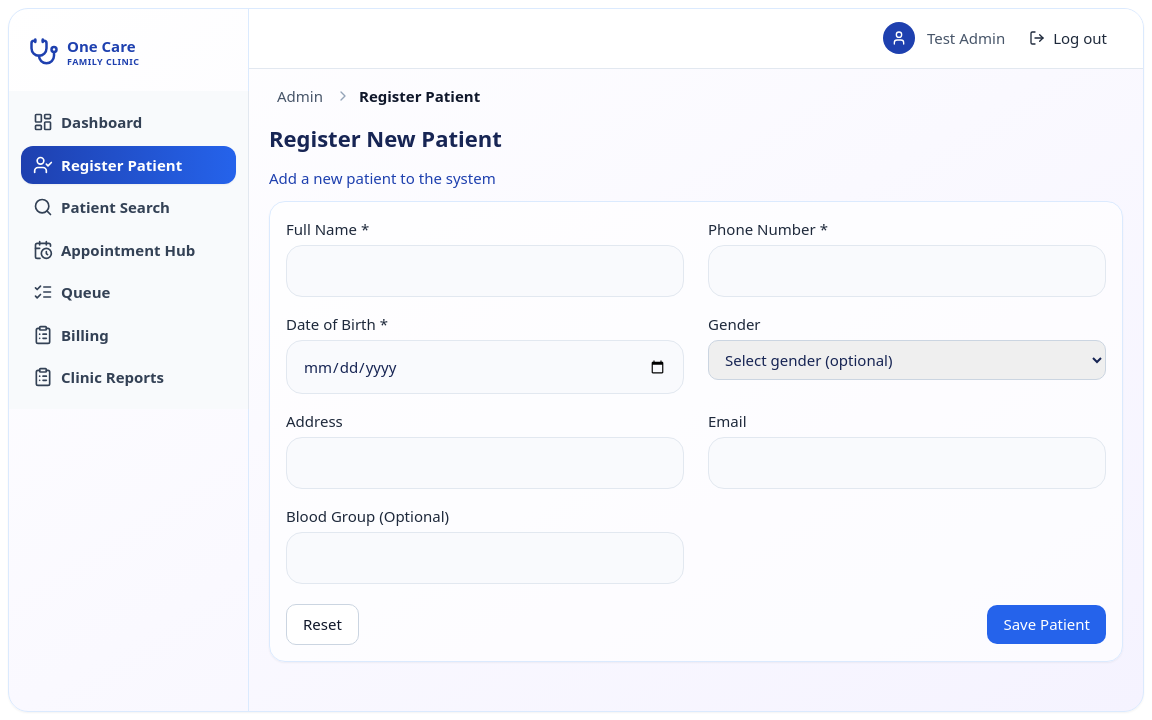
ADM-02 registration through real routing and authenticated HTTP client › treats suspected duplicates as saved and prevents repeat submission
The image size is (1152, 720).
Type "Example Patient" into the field labelled "Full Name*".
click(485, 271); type("Example Patient")  # box [286,245,684,297]
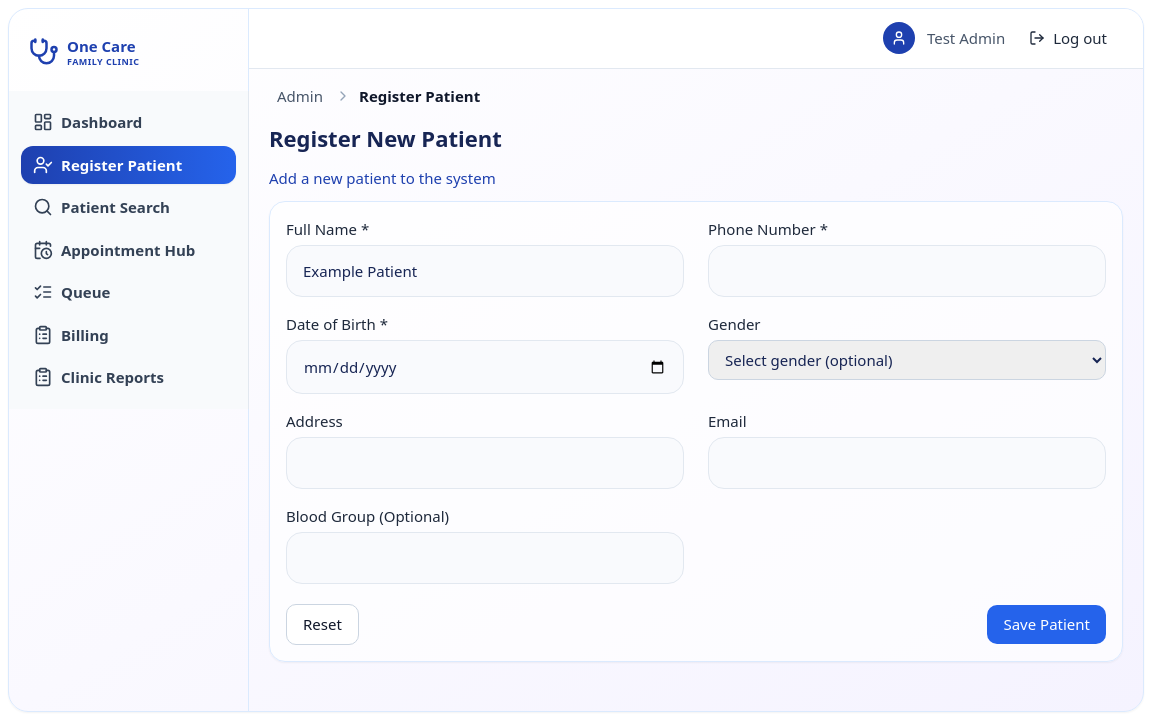
Type "example-phone" into the field labelled "Phone Number*".
click(907, 271); type("example-phone")  # box [708,245,1106,297]
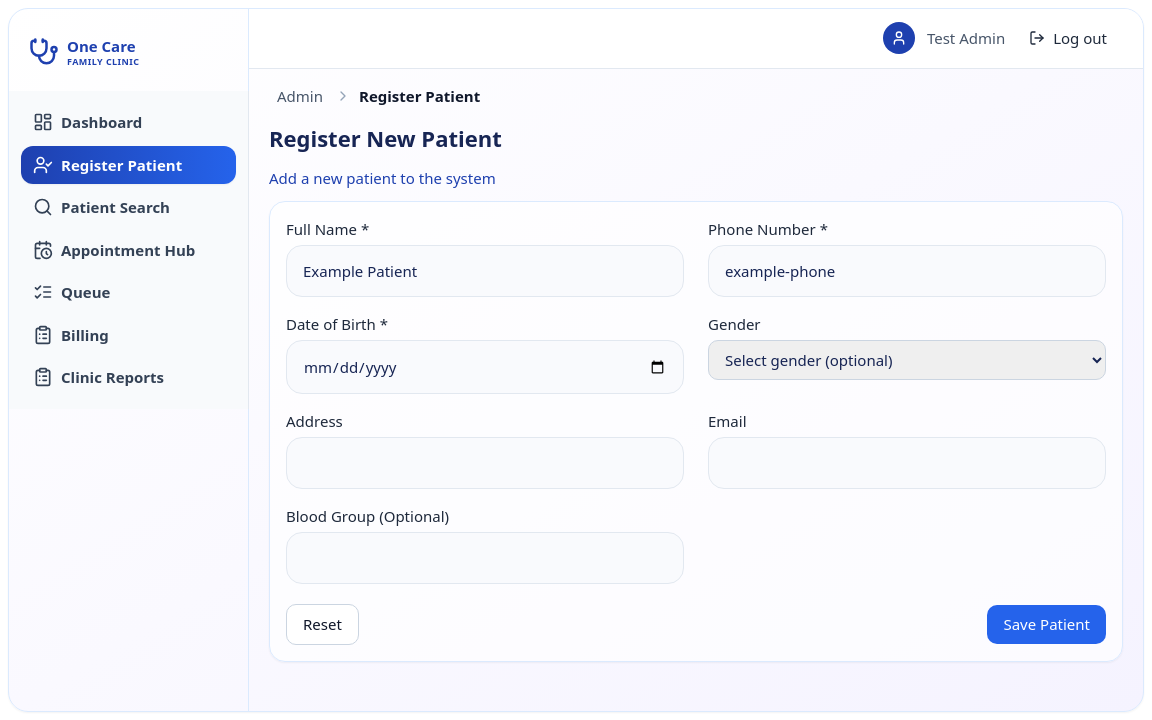
Type "2090-01-15" into the date field labelled "Date of Birth*".
click(485, 367); type("2090-01-15")  # box [286,340,684,394]
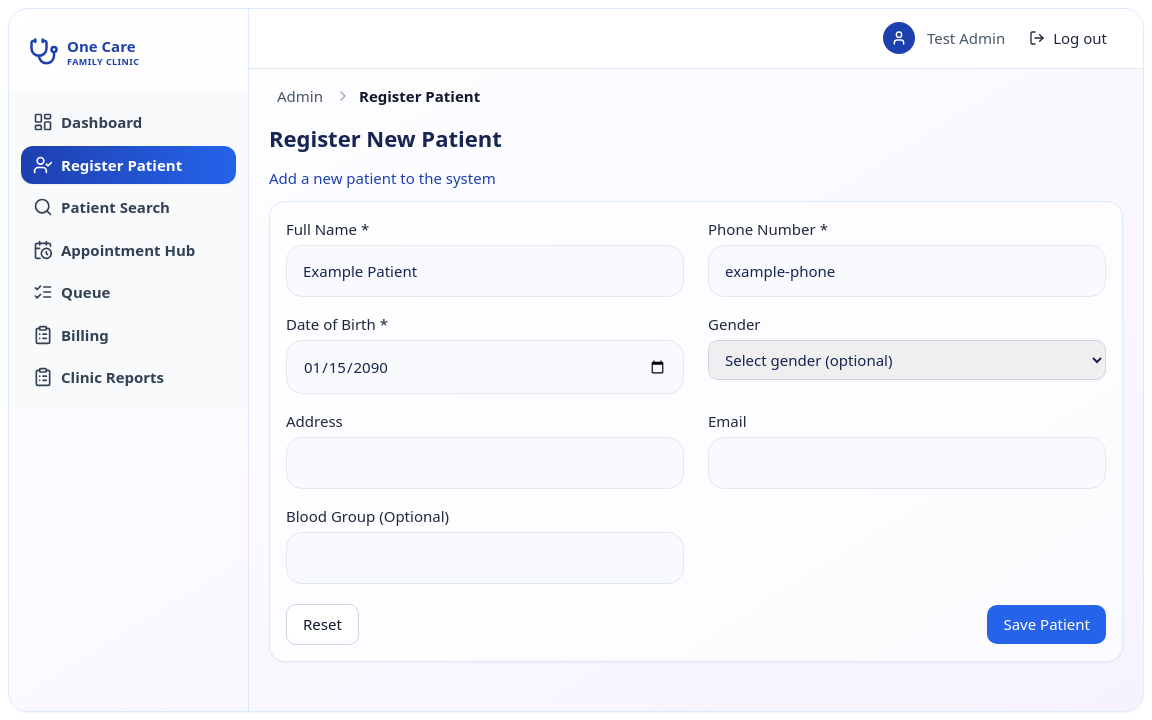
Click the button "Save Patient".
click(1047, 625)  # box [987,605,1106,644]
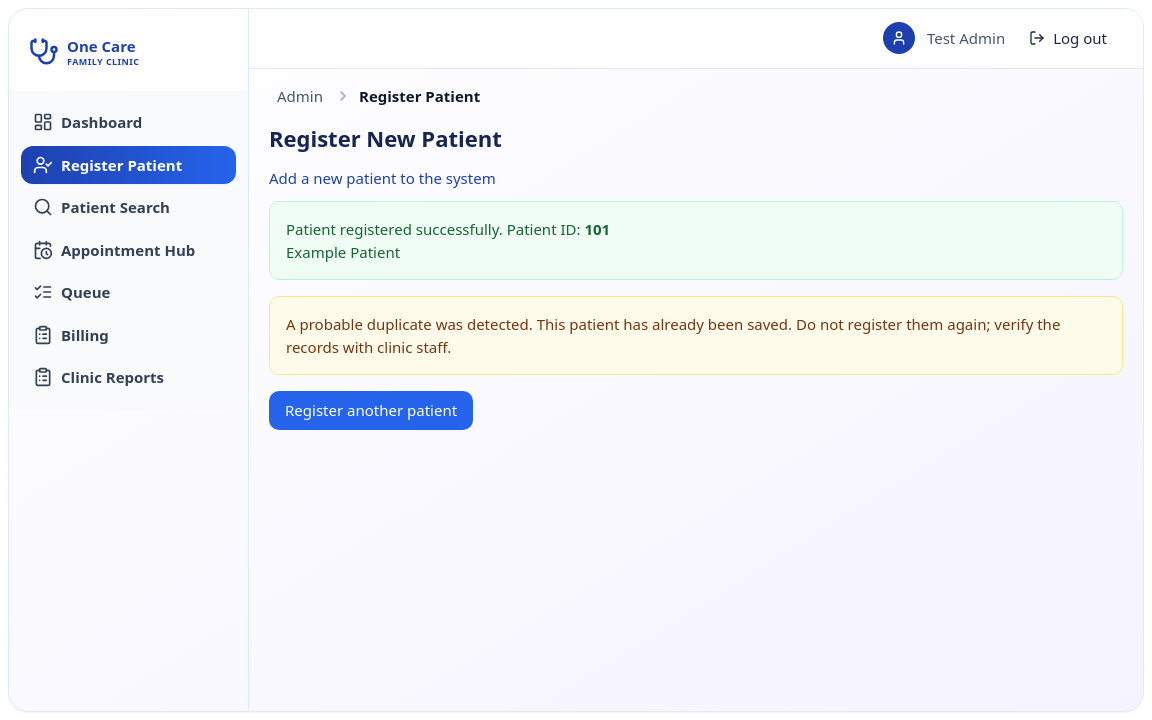
Now the text "probable duplicate was detected" shows "already been saved", box [286,314,1060,357]
Now the button "Save Patient" is gone
